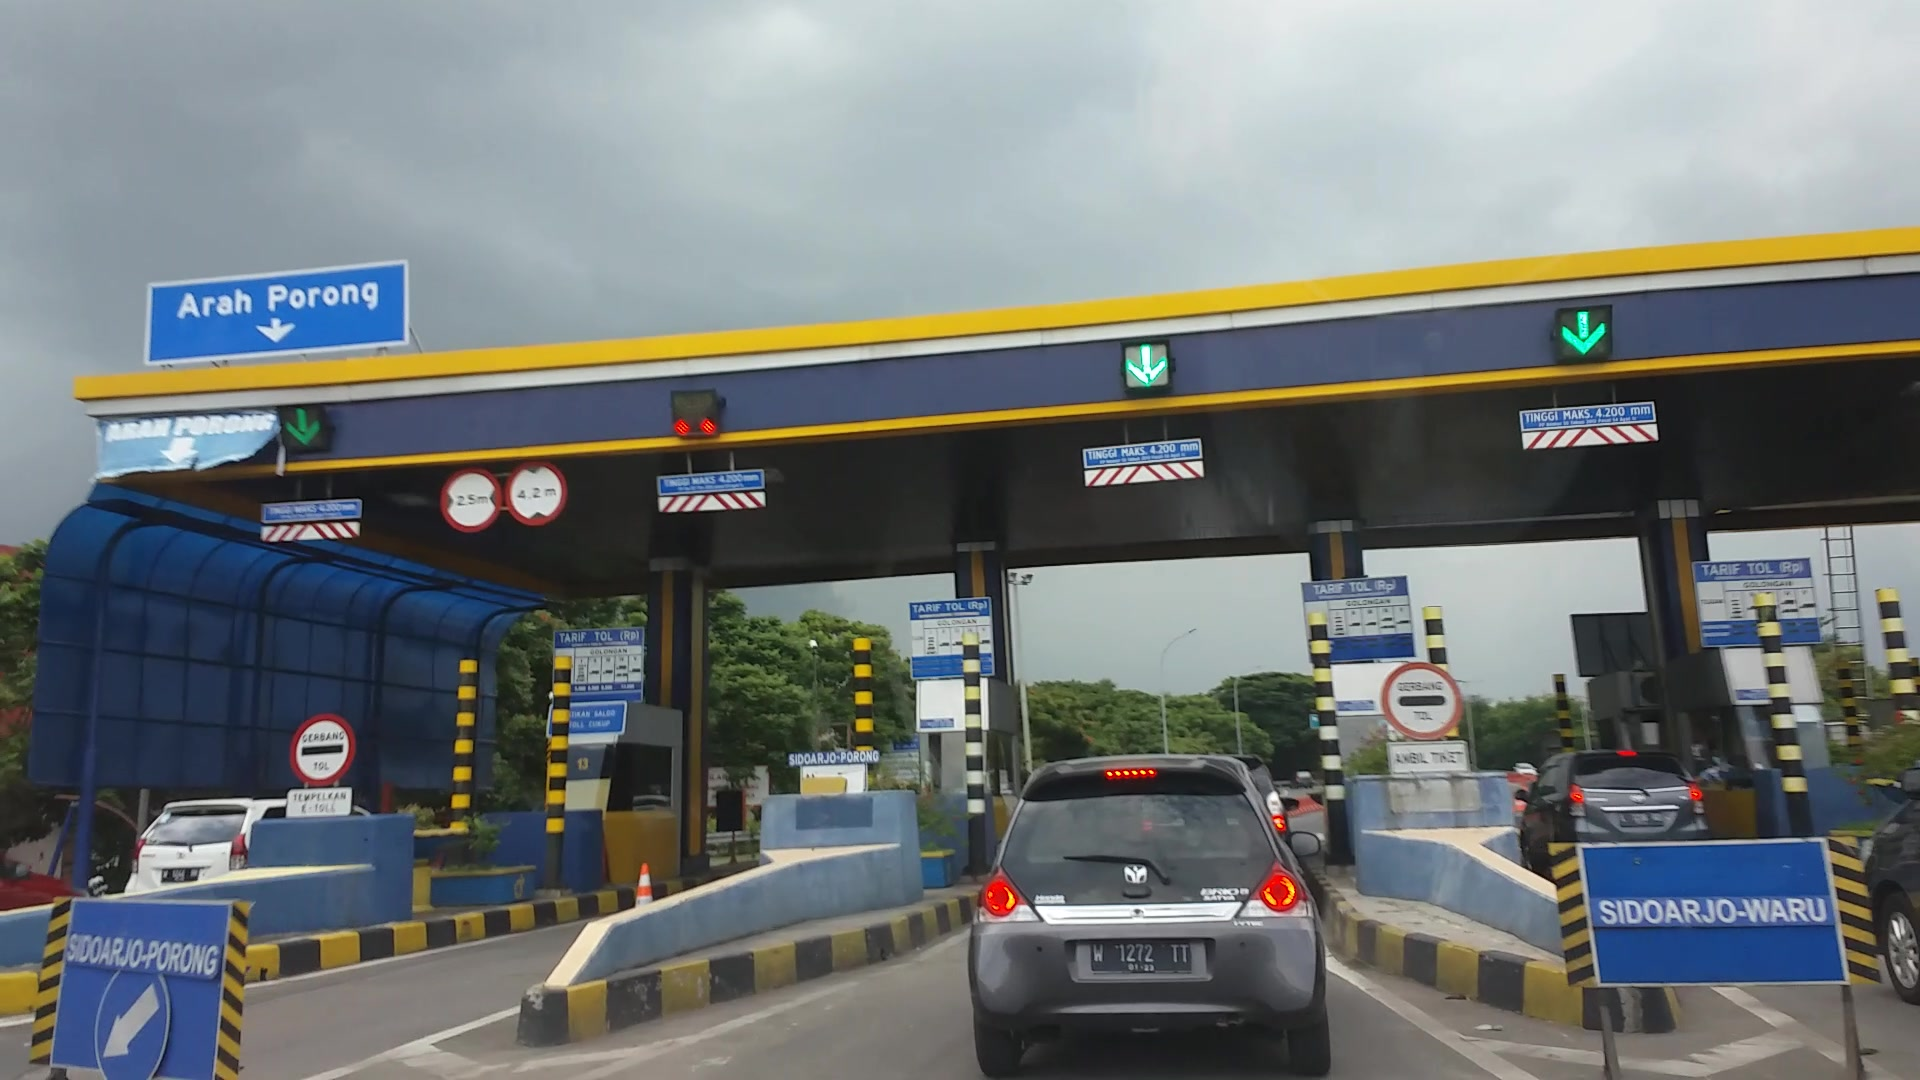plate_positive: (1091, 940, 1191, 975)
